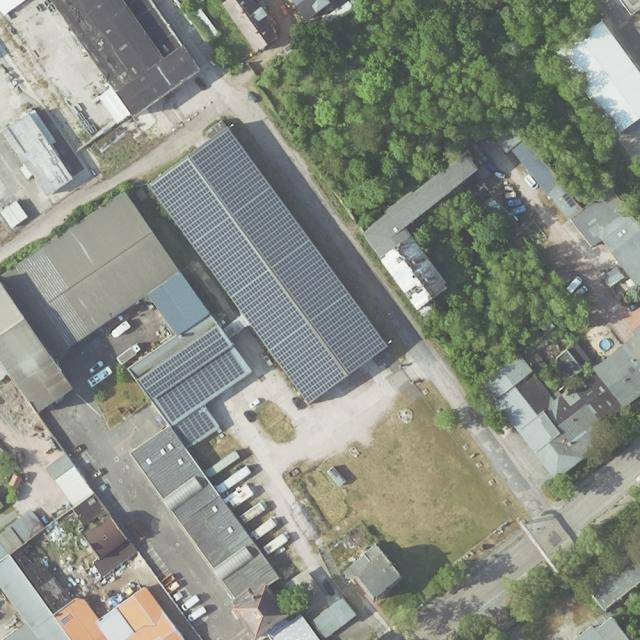PV: (149, 130, 388, 407), (137, 329, 244, 446)
ST: (561, 191, 577, 209)
